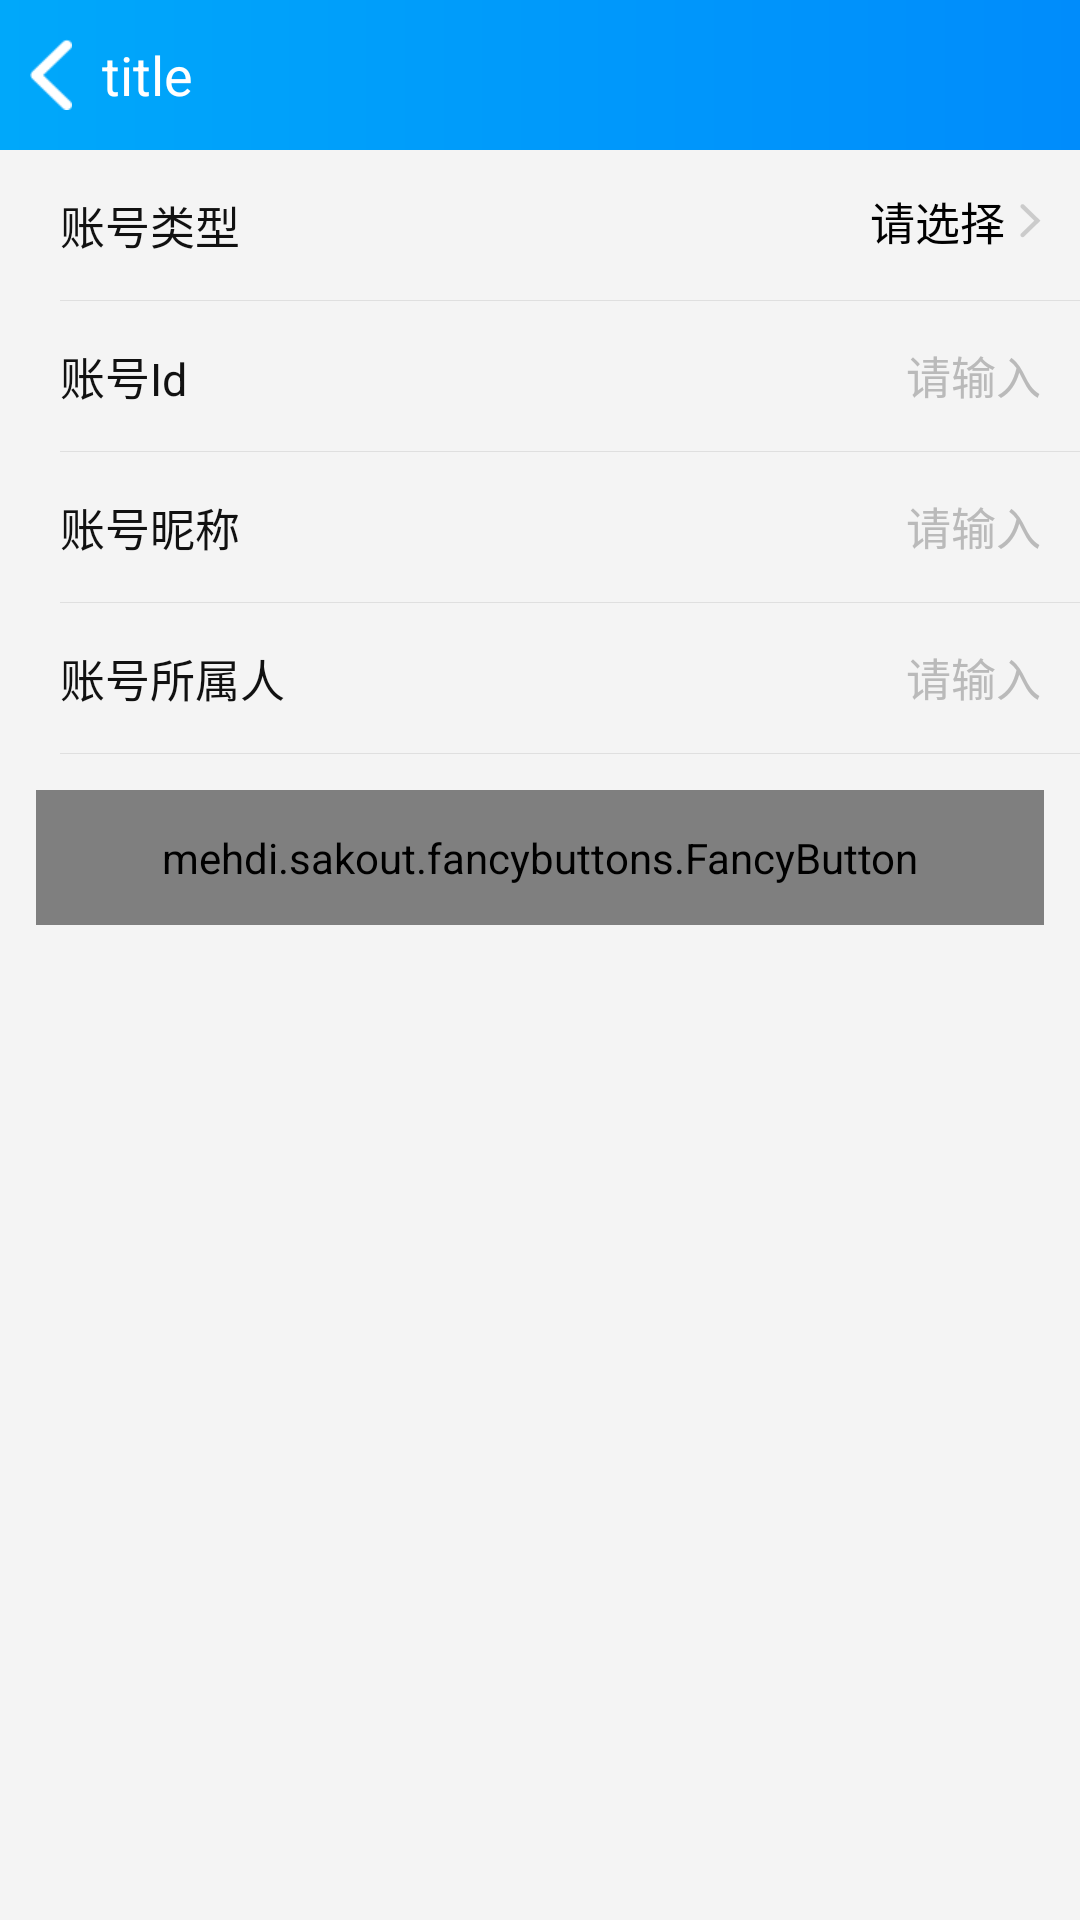

Where icons sit on this 1080x1920 app screen, as box=[x1, y1, x2, y2]:
back: box=[30, 40, 72, 110]
